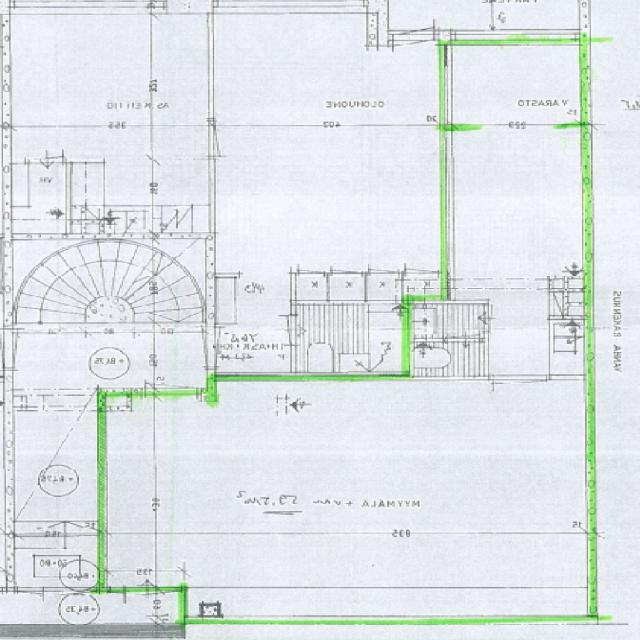door: (144, 346, 197, 395), (492, 376, 546, 422), (124, 588, 174, 632), (446, 312, 479, 342), (484, 305, 520, 330), (110, 587, 124, 604)
